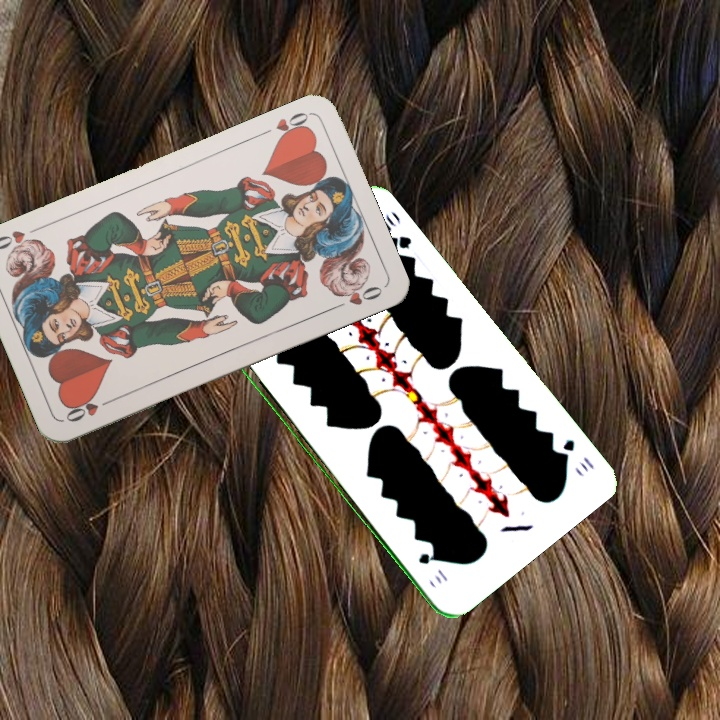G10: (555, 435, 597, 474)
HO: (256, 108, 313, 144), (61, 393, 117, 425)
